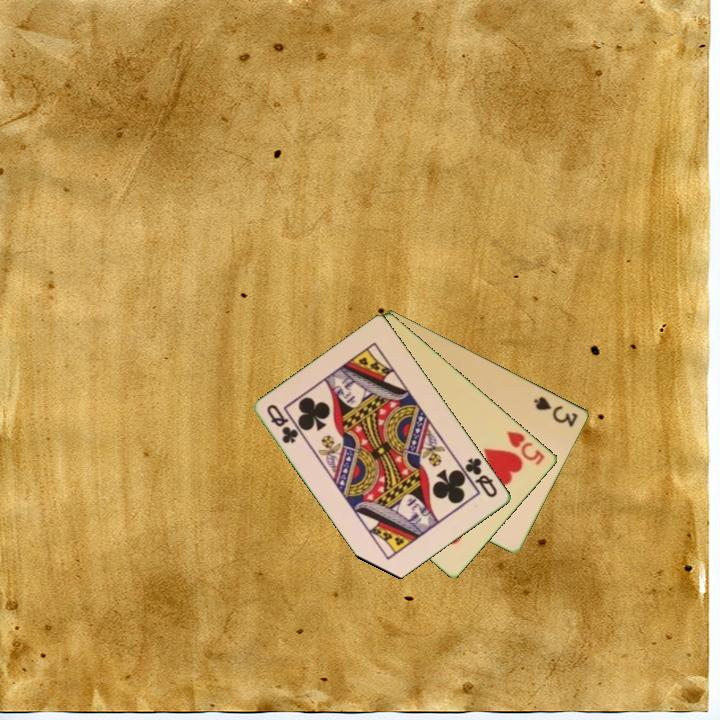3s: (531, 392, 581, 430)
5h: (503, 428, 548, 468)
Qc: (461, 454, 501, 501), (263, 400, 302, 447)
